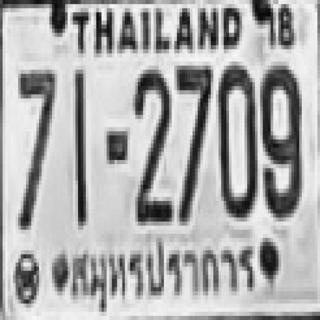N00: (216, 62, 255, 213)
N01: (73, 68, 83, 224)
N02: (133, 68, 169, 224)
N07: (16, 66, 54, 226), (174, 64, 211, 220), (174, 62, 211, 193), (174, 64, 211, 166)
N09: (260, 62, 299, 213)
P57: (64, 232, 255, 311)
